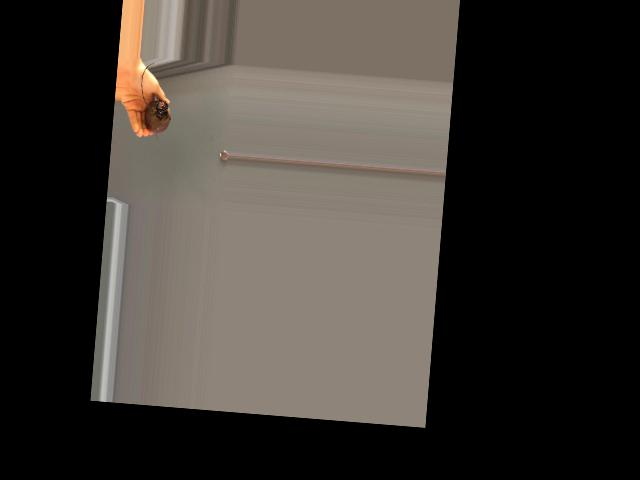beet: (136, 62, 174, 142)
